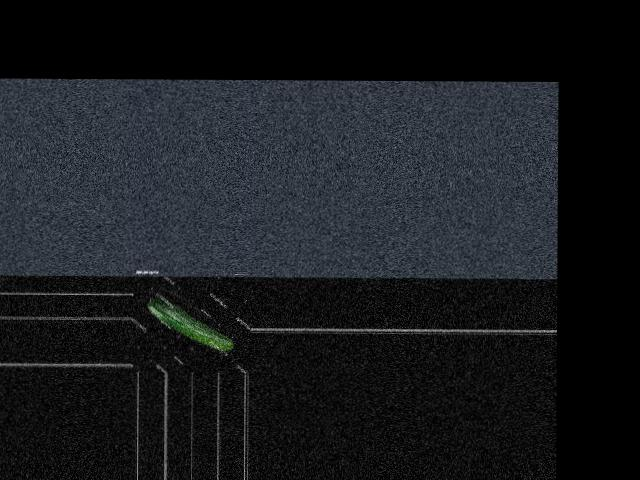cucumber: (147, 296, 235, 351)
